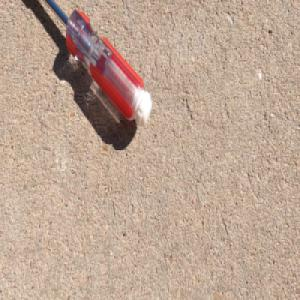Screwdriver: (38, 0, 154, 129)
